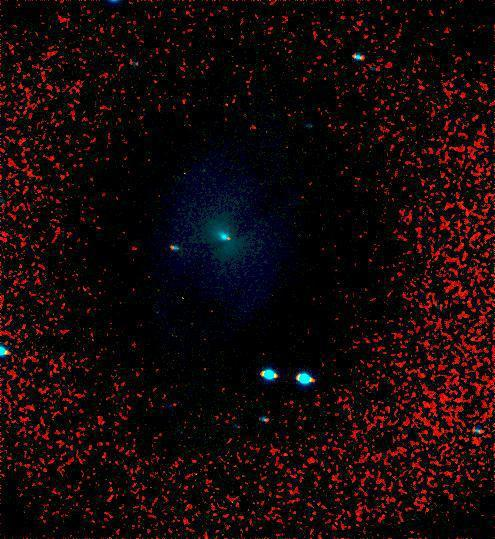star: (214, 223, 244, 253)
